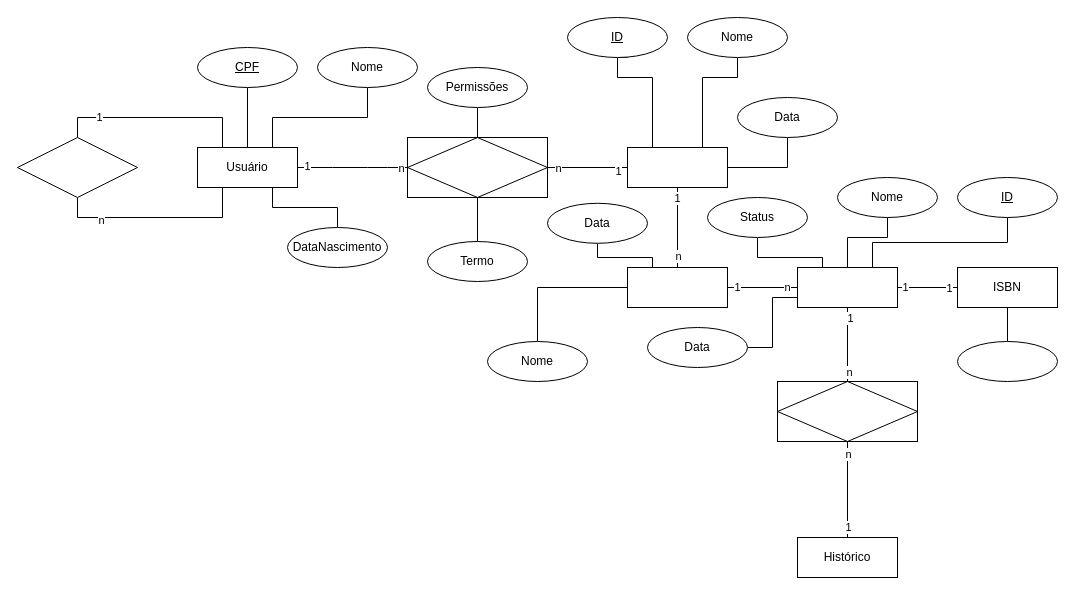
The diagram is 1075 pixels wide and 595 high, and some of its shapes have lost their labels. The box of each missing label's shape, as (x1, y1, x2, y2) in pixels:
Acesso: (406, 136, 548, 198)
Arquivos: (796, 266, 898, 308)
Branch: (626, 266, 728, 308)
Convite: (16, 136, 138, 198)
Edições: (776, 380, 918, 442)
Número: (956, 340, 1058, 382)
Repositórios: (626, 146, 728, 188)
